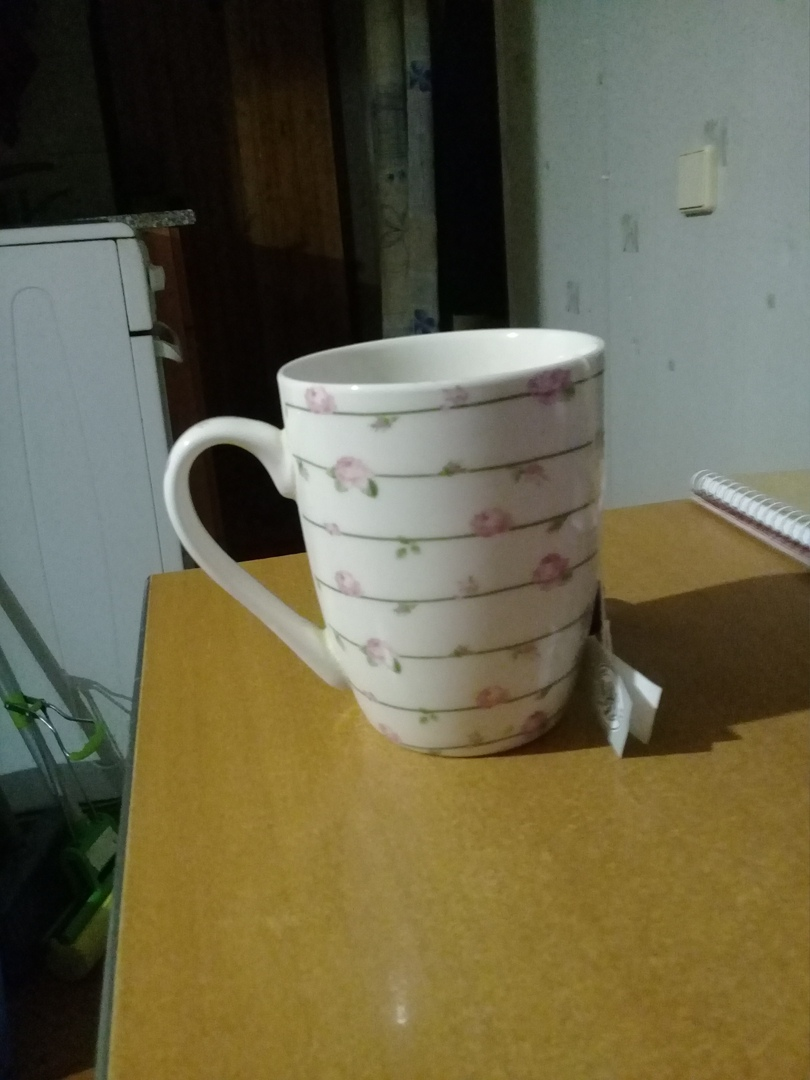cup: (158, 314, 633, 763)
